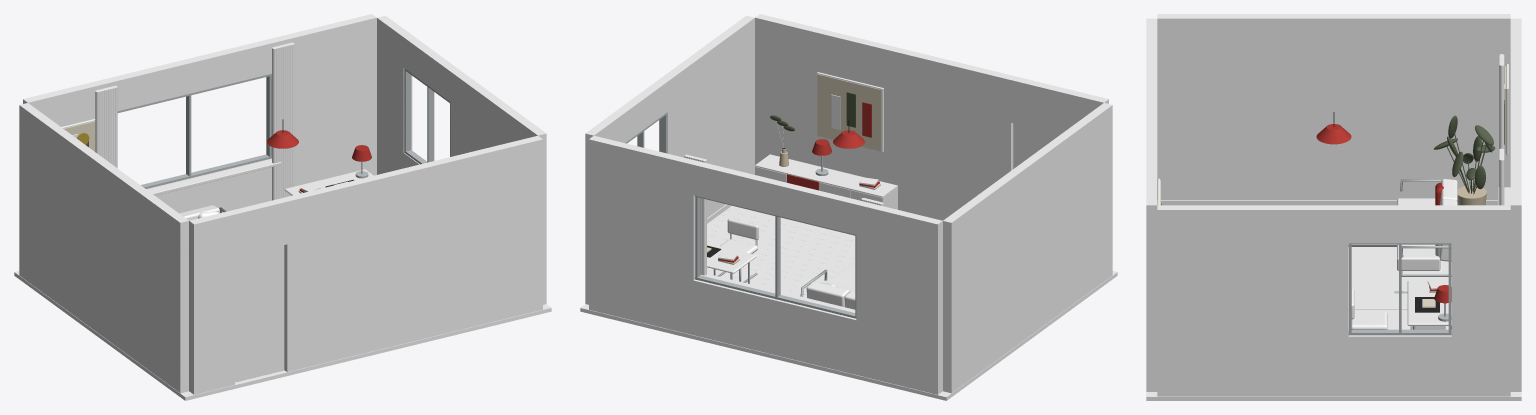
3 views of the same model, side by side, from view 1: azimuth 30°, elevation 25°; view 2: azimuth 150°, elevation 25°; view 3: azimuth 270°, elevation 25° (orthographic). The views are drawn at different scales.
Visible parts, largest first — view 1: south plaster wall.002, west plaster wall, north plaster wall.003, south plaster wall, Flush timber door, north plaster wall.002, east plaster wall, east plaster wall.003, north plaster wall.001, Continuous subfloor, south plaster wall.001, north plaster wall (+8 smaller); view 2: south plaster wall.002, west plaster wall, north plaster wall.003, north plaster wall, east plaster wall, north plaster wall.001, north plaster wall.002, Sideboard art linen, Continuous subfloor, south plaster wall.001, east plaster wall.002, Top panel 20mm (+18 smaller); view 3: west plaster wall, east plaster wall, east plaster wall.003, east plaster wall.001, east plaster wall.002, south plaster wall.002, Bound wool area rug, north plaster wall.003, Continuous subfloor, Painted baseboard.003, Timber top.001, north plaster wall.002 (+10 smaller).
Boxes of the visible parts, left/top/right/bottom form: south plaster wall.002: left=282, top=135, right=542, bottom=371; west plaster wall: left=19, top=103, right=188, bottom=393; north plaster wall.003: left=267, top=14, right=376, bottom=186; south plaster wall: left=189, top=211, right=234, bottom=394; Flush timber door: left=235, top=245, right=284, bottom=382; north plaster wall.002: left=104, top=39, right=272, bottom=110; east plaster wall: left=450, top=69, right=546, bottom=304; east plaster wall.003: left=377, top=15, right=412, bottom=174; north plaster wall.001: left=146, top=158, right=271, bottom=213; Continuous subfloor: left=14, top=271, right=551, bottom=400; south plaster wall.001: left=230, top=198, right=287, bottom=256; north plaster wall: left=23, top=79, right=109, bottom=126; south plaster wall.002: left=755, top=14, right=1015, bottom=220; west plaster wall: left=943, top=103, right=1112, bottom=393; north plaster wall.003: left=589, top=135, right=698, bottom=335; north plaster wall: left=856, top=201, right=942, bottom=394; east plaster wall: left=659, top=15, right=754, bottom=217; north plaster wall.001: left=693, top=279, right=856, bottom=374; north plaster wall.002: left=693, top=161, right=860, bottom=234; Sideboard art linen: left=817, top=74, right=881, bottom=151; Continuous subfloor: left=580, top=271, right=1117, bottom=400; south plaster wall.001: left=1011, top=76, right=1067, bottom=134; east plaster wall.002: left=612, top=79, right=667, bottom=142; Top panel 20mm: left=755, top=154, right=897, bottom=197; west plaster wall: left=1157, top=14, right=1510, bottom=199; east plaster wall: left=1157, top=205, right=1348, bottom=396; east plaster wall.003: left=1451, top=205, right=1510, bottom=396; east plaster wall.001: left=1348, top=335, right=1451, bottom=396; east plaster wall.002: left=1348, top=205, right=1451, bottom=243; south plaster wall.002: left=1146, top=68, right=1157, bottom=391; Bound wool area rug: left=1348, top=244, right=1441, bottom=309; north plaster wall.003: left=1510, top=149, right=1521, bottom=391; Continuous subfloor: left=1146, top=310, right=1521, bottom=400; Painted baseboard.003: left=1161, top=200, right=1497, bottom=205; Timber top.001: left=1407, top=281, right=1451, bottom=325; north plaster wall.002: left=1510, top=62, right=1521, bottom=149.
Bounding box in the file's own units: 6.3 × 2.87 × 5.1.
